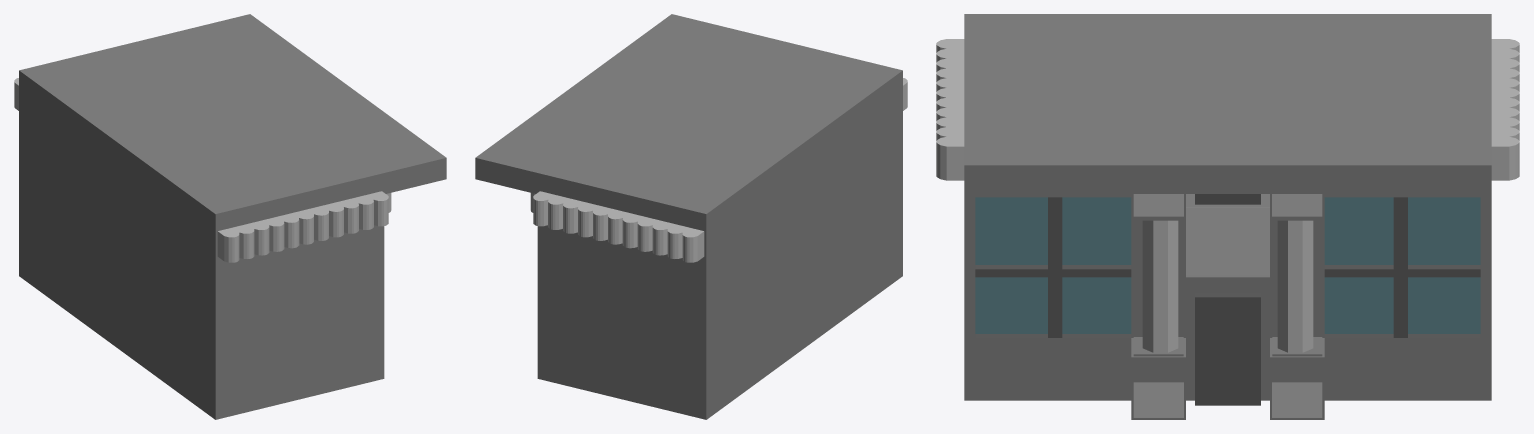
The model's file is Store4a.fbx.
3 renders of one model, left to right at view 1: azimuth 30°, elevation 25°; view 2: azimuth 150°, elevation 25°; view 3: azimuth 270°, elevation 25°, orthographic. The views are drawn at different scales.
Visible parts, largest first — view 1: Store4a; view 2: Store4a; view 3: Store4a.
Boxes of the visible parts, <box> form: Store4a: <box>14,14,446,419</box>; Store4a: <box>475,14,907,419</box>; Store4a: <box>936,14,1519,419</box>.
Bounding box in the file's own units: 274 × 233 × 446.
